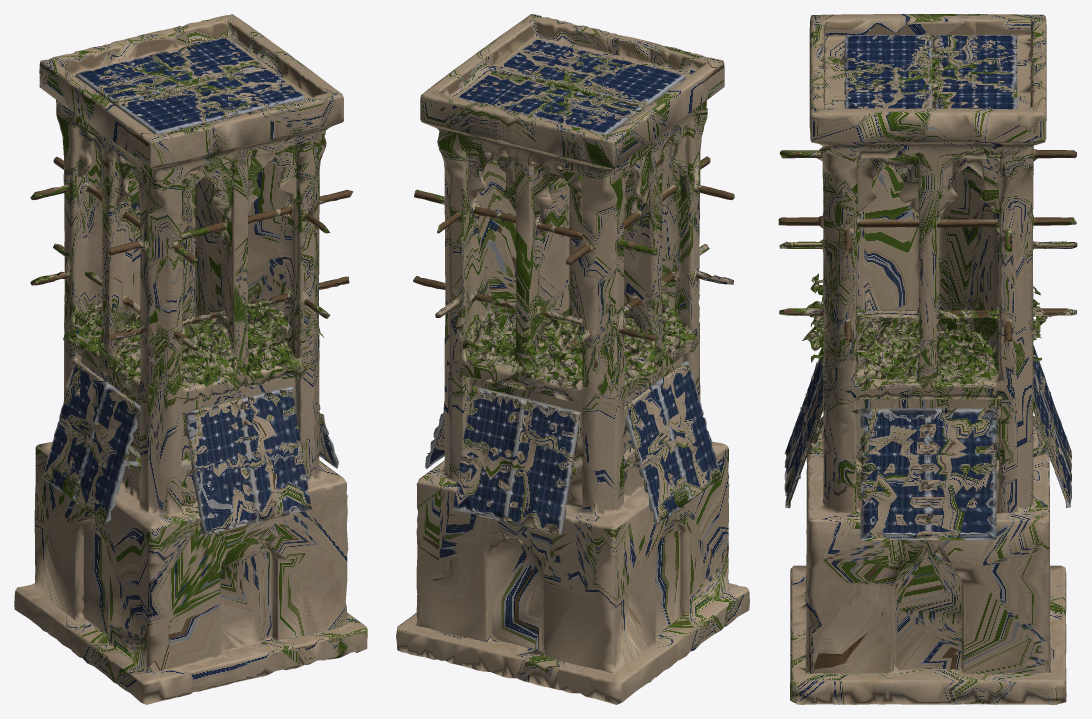
The model's file is windtower_lod1.glb.
3 renders of one model, left to right at view 1: azimuth 30°, elevation 25°; view 2: azimuth 150°, elevation 25°; view 3: azimuth 270°, elevation 25°, orthographic. The views are drawn at different scales.
Size of the model in its own units: 0.8826 by 1.9 by 0.8812.
Materials: 1 (1 with a texture image).
